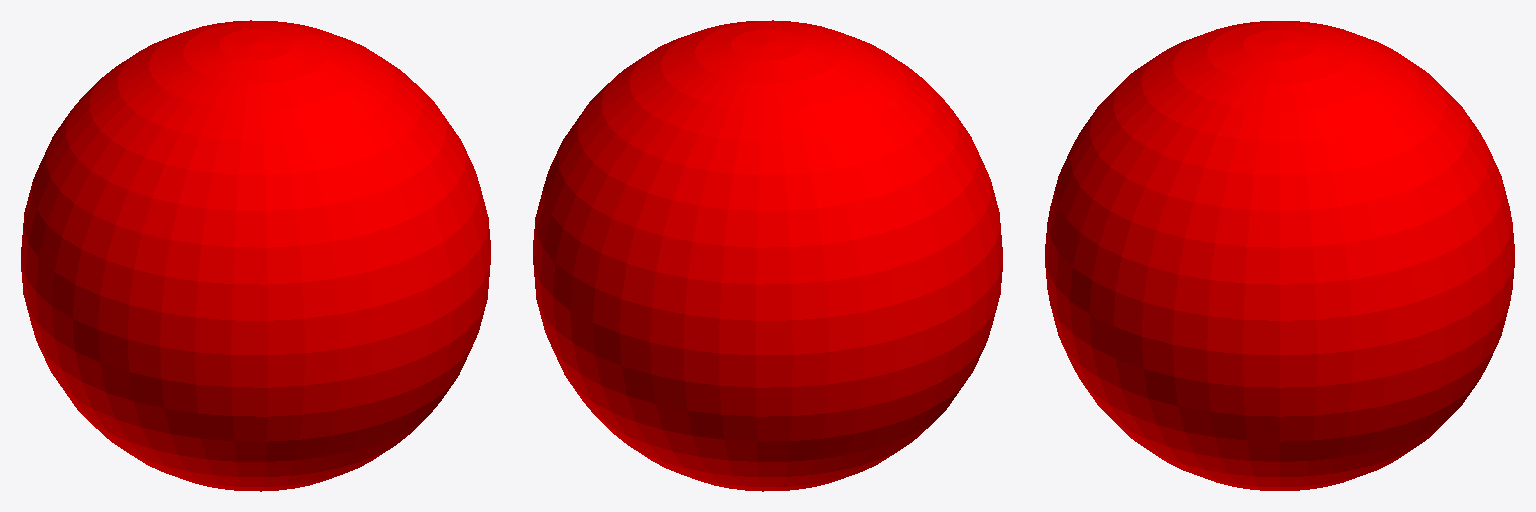
The robot description file, URDF, robot "sphere.urdf":
<?xml version='1.0' encoding='utf-8'?>
<robot name="sphere.urdf">
  <link name="baseLink">
    <contact>
      <lateral_friction value="1.0" />
      <rolling_friction value="0.0" />
    </contact>
    <inertial>
      <origin rpy="0 0 0" xyz="0 0 0" />
       <mass value="0.0" />
       <inertia ixx="1e-3" ixy="0" ixz="0" iyy="1e-3" iyz="0" izz="1e-3" />
    </inertial>
    <visual>
      <origin rpy="0 0 0" xyz="0 0 0" />
      <geometry>
				<mesh filename="sphere.obj" scale="1 1 1" />
      </geometry>
       <material name="red">
        <color rgba="1 0 0 1" />
      </material>
    </visual>
    <collision>
      <origin rpy="0 0 0" xyz="0 0 0" />
      <geometry>
	 	<mesh filename="sphere.obj" scale="1 1 1" />
      </geometry>
    </collision>
  </link>
</robot>

--- Facts derived from the render (not from the file) ---
Views: 3 orthographic renders of the robot side by side, from view 1: azimuth 30°, elevation 25°; view 2: azimuth 150°, elevation 25°; view 3: azimuth 270°, elevation 25°.
Robot: sphere.urdf — 1 links, 0 joints (none); root link baseLink; default pose: all joints at 0.
Visible links, largest first — view 1: baseLink; view 2: baseLink; view 3: baseLink.
Link boxes in pixels (box(x1,y1,x2,y2)): baseLink: box(21, 20, 490, 491); baseLink: box(533, 20, 1002, 491); baseLink: box(1045, 21, 1514, 490).
Size in the robot's own frame: 0.2 by 0.2 by 0.2 metres.
1 mesh visuals loaded from 1 distinct referenced files (1 OBJ).